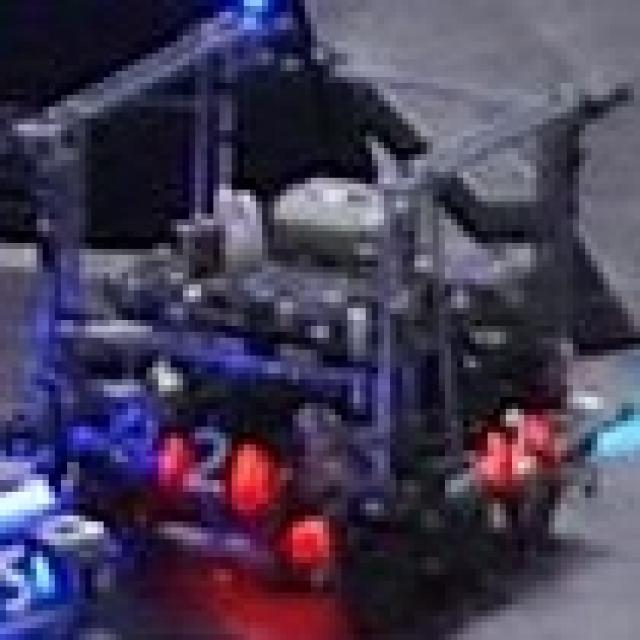R2: (146, 414, 262, 510), (470, 403, 542, 480)
